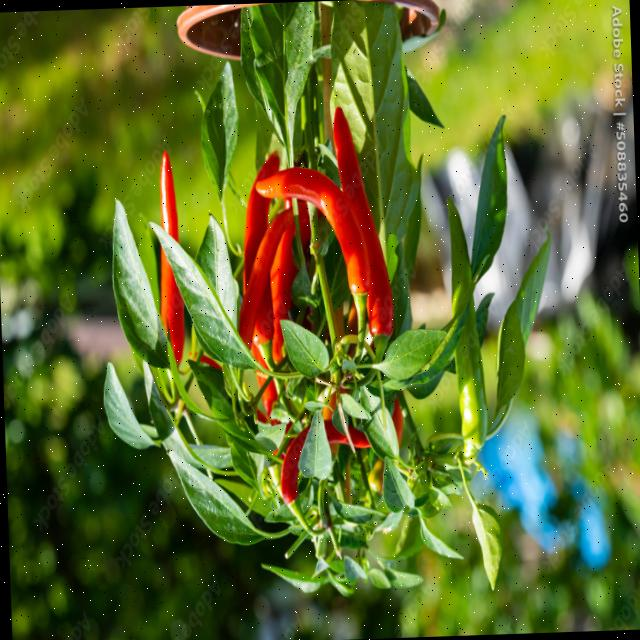chili: (332, 106, 393, 359), (255, 168, 369, 292), (238, 209, 292, 346), (268, 207, 297, 362), (158, 247, 183, 362), (243, 180, 268, 290), (280, 428, 309, 504), (158, 152, 177, 240), (251, 279, 273, 346), (323, 419, 346, 441), (256, 155, 277, 179), (298, 201, 309, 245), (347, 426, 369, 447)
